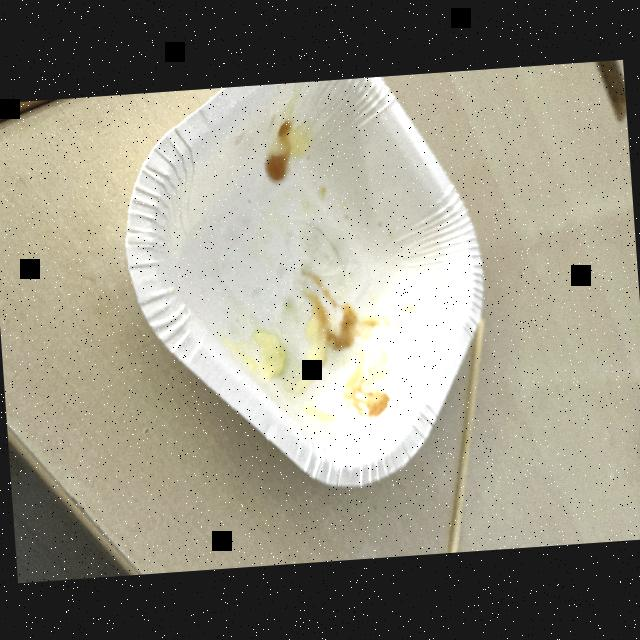cardboard_bowl: (107, 69, 500, 508)
stick: (426, 314, 504, 552)
